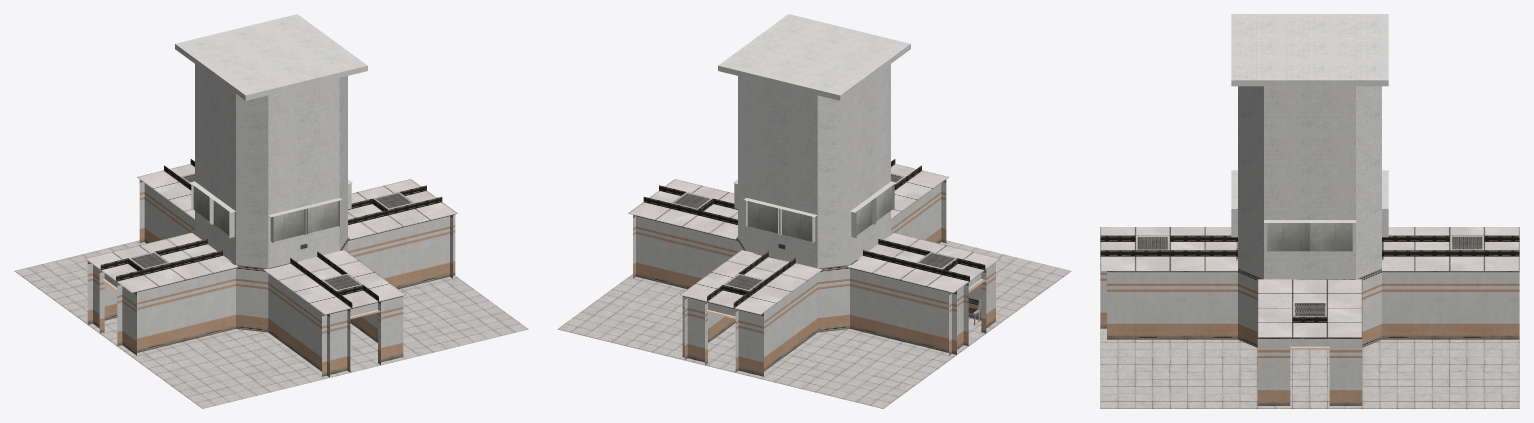
The model's file is RZ_room4.obj.
The picture shows the model from 3 angles, left to right: view 1: azimuth 30°, elevation 25°; view 2: azimuth 150°, elevation 25°; view 3: azimuth 270°, elevation 25°; orthographic projection. The views are drawn at different scales.
Parts seen in each view (by area): view 1: OZ_room4; view 2: OZ_room4; view 3: OZ_room4.
Part boxes in pixels (x1,y1,x2,y2): OZ_room4: [14, 14, 528, 408]; OZ_room4: [557, 14, 1071, 408]; OZ_room4: [1100, 14, 1519, 408].
Bounding box in the file's own units: 20.48 × 14.73 × 20.48.
